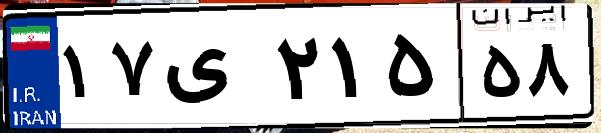1: (330, 28, 385, 110), (57, 26, 110, 100)
2: (270, 28, 330, 110)
5: (385, 28, 445, 110), (475, 38, 525, 113)
7: (110, 28, 158, 98)
8: (525, 38, 570, 115)
ی: (158, 20, 270, 120)
